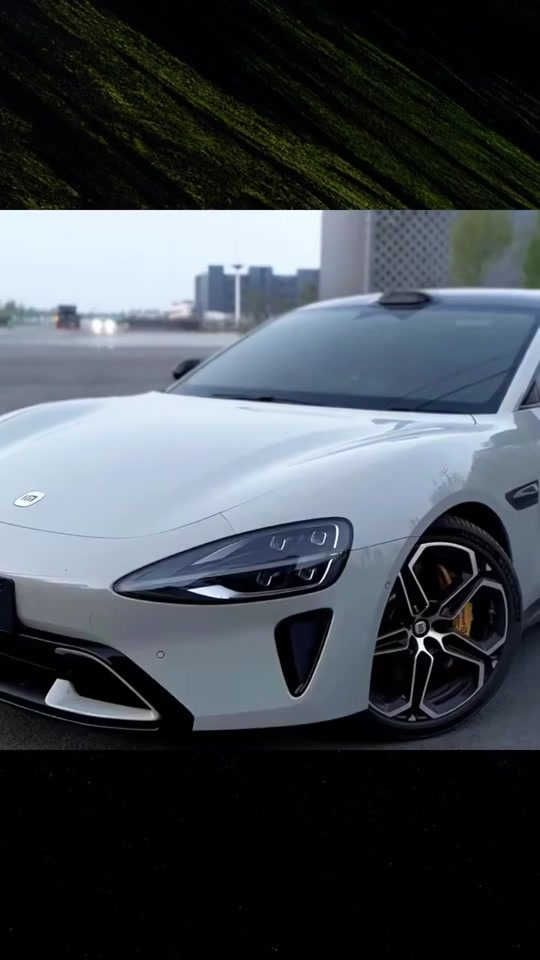su7: (2, 284, 540, 742)
